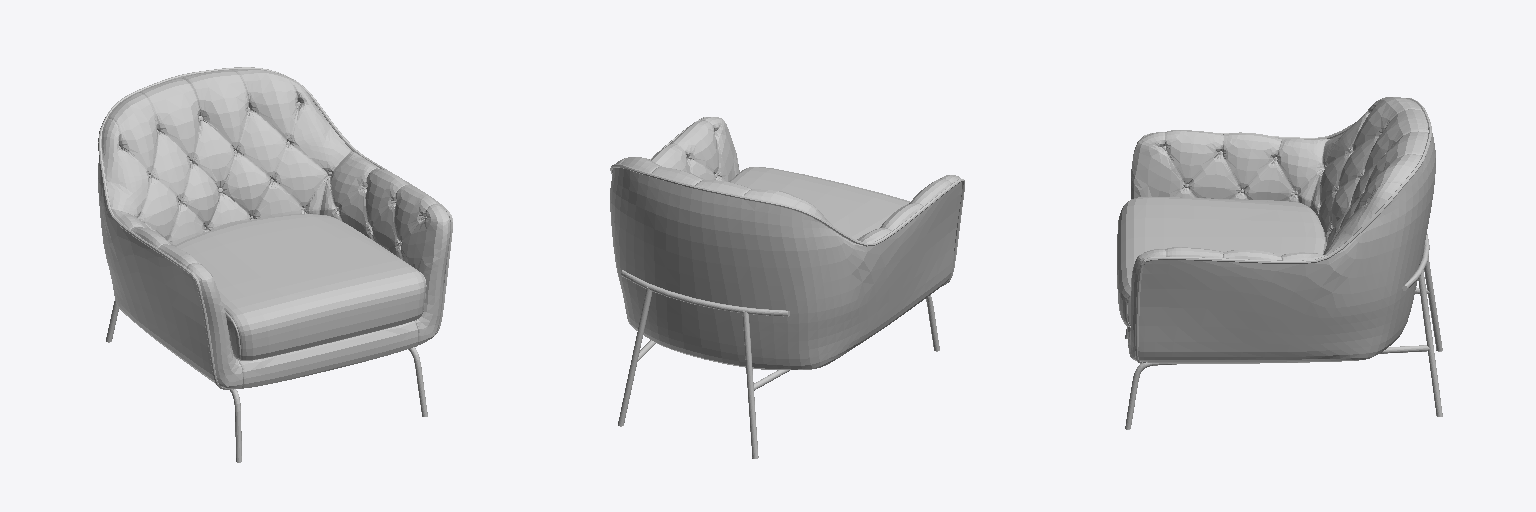
The model's file is PoltronaFava.obj.
The picture shows the model from 3 angles: view 1: azimuth 30°, elevation 25°; view 2: azimuth 150°, elevation 25°; view 3: azimuth 270°, elevation 25°; orthographic projection.
Parts seen in each view (by area): view 1: Mesh50 skpE88B1 Model, Mesh49 skpE88B1 Model, Mesh51 skpE88B1 Model; view 2: Mesh50 skpE88B1 Model, Mesh49 skpE88B1 Model, Mesh51 skpE88B1 Model, Mesh3 skpE88B1 Model, Mesh1 skpE88B1 Model, Mesh6 skpE88B1 Model, Mesh2 skpE88B1 Model; view 3: Mesh50 skpE88B1 Model, Mesh49 skpE88B1 Model, Mesh51 skpE88B1 Model, Mesh6 skpE88B1 Model, Mesh7 skpE88B1 Model, Mesh1 skpE88B1 Model.
Boxes of the visible parts, x1,y1,x2,y2 form: Mesh50 skpE88B1 Model: [98, 69, 450, 389]; Mesh49 skpE88B1 Model: [175, 213, 426, 360]; Mesh51 skpE88B1 Model: [98, 67, 452, 389]; Mesh50 skpE88B1 Model: [610, 117, 961, 369]; Mesh49 skpE88B1 Model: [729, 167, 909, 239]; Mesh51 skpE88B1 Model: [610, 117, 964, 286]; Mesh3 skpE88B1 Model: [621, 270, 789, 316]; Mesh1 skpE88B1 Model: [742, 311, 758, 458]; Mesh6 skpE88B1 Model: [618, 287, 652, 426]; Mesh2 skpE88B1 Model: [754, 295, 939, 390]; Mesh50 skpE88B1 Model: [1127, 97, 1435, 363]; Mesh49 skpE88B1 Model: [1117, 197, 1326, 327]; Mesh51 skpE88B1 Model: [1135, 98, 1431, 363]; Mesh6 skpE88B1 Model: [1418, 270, 1442, 416]; Mesh7 skpE88B1 Model: [1125, 345, 1429, 429]; Mesh1 skpE88B1 Model: [1424, 257, 1442, 351].
Size of the model in its own units: 84.12 by 78.67 by 91.29.